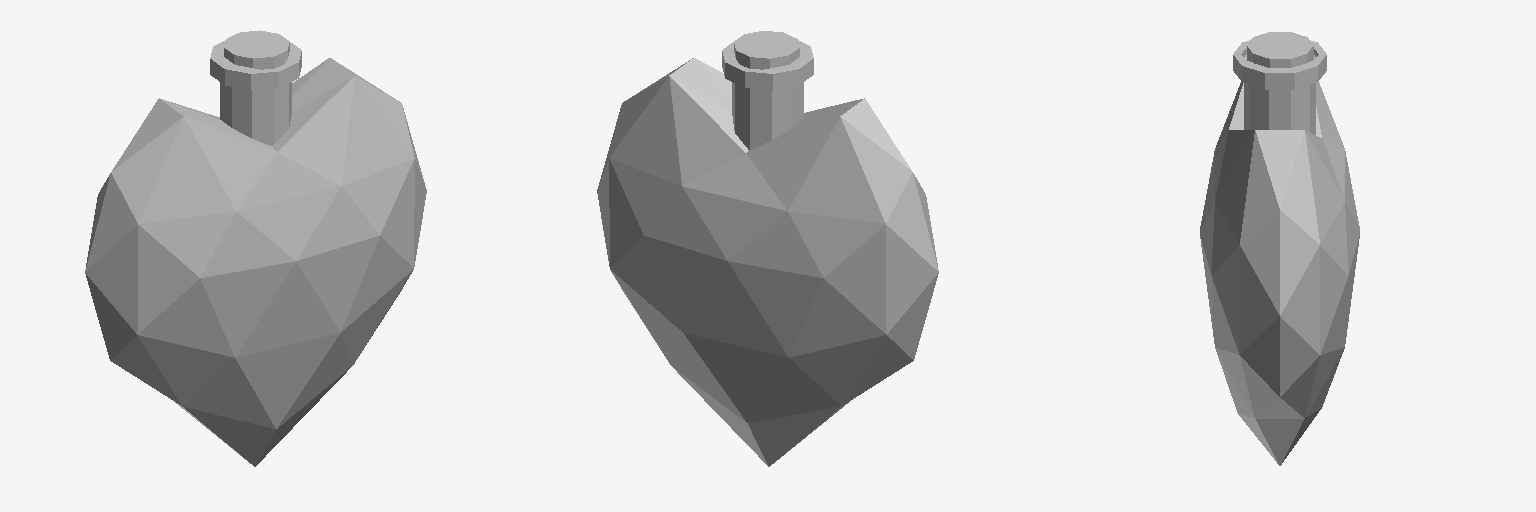
File: healthpotion.obj
The picture shows the model from 3 angles: view 1: azimuth 30°, elevation 25°; view 2: azimuth 150°, elevation 25°; view 3: azimuth 270°, elevation 25°; orthographic projection.
Parts seen in each view (by area): view 1: Icosphere, Cylinder; view 2: Icosphere, Cylinder; view 3: Icosphere, Cylinder.
Boxes of the visible parts, <box> form: Icosphere: <box>85,40,426,466</box>; Cylinder: <box>224,30,289,69</box>; Icosphere: <box>597,40,938,466</box>; Cylinder: <box>734,31,799,69</box>; Icosphere: <box>1200,40,1359,465</box>; Cylinder: <box>1247,32,1313,67</box>.
Size of the model in its own units: 2 by 2.36 by 0.8154.